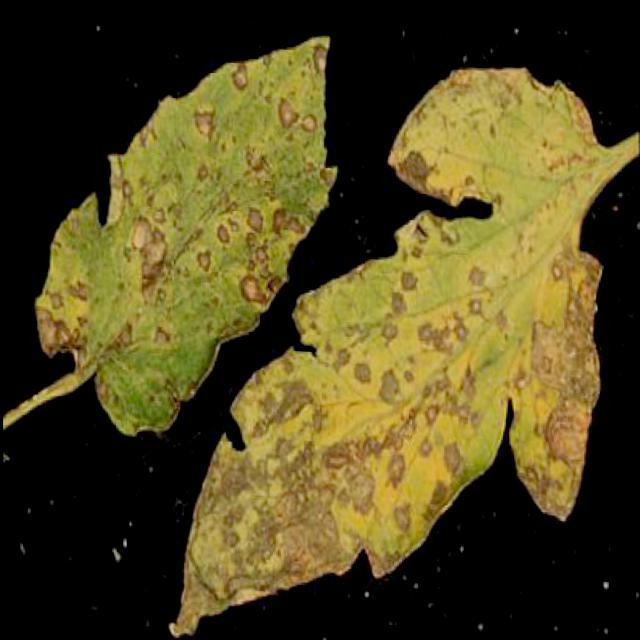Tomato Septoria spot leaf: (157, 51, 606, 639), (23, 15, 340, 432)
